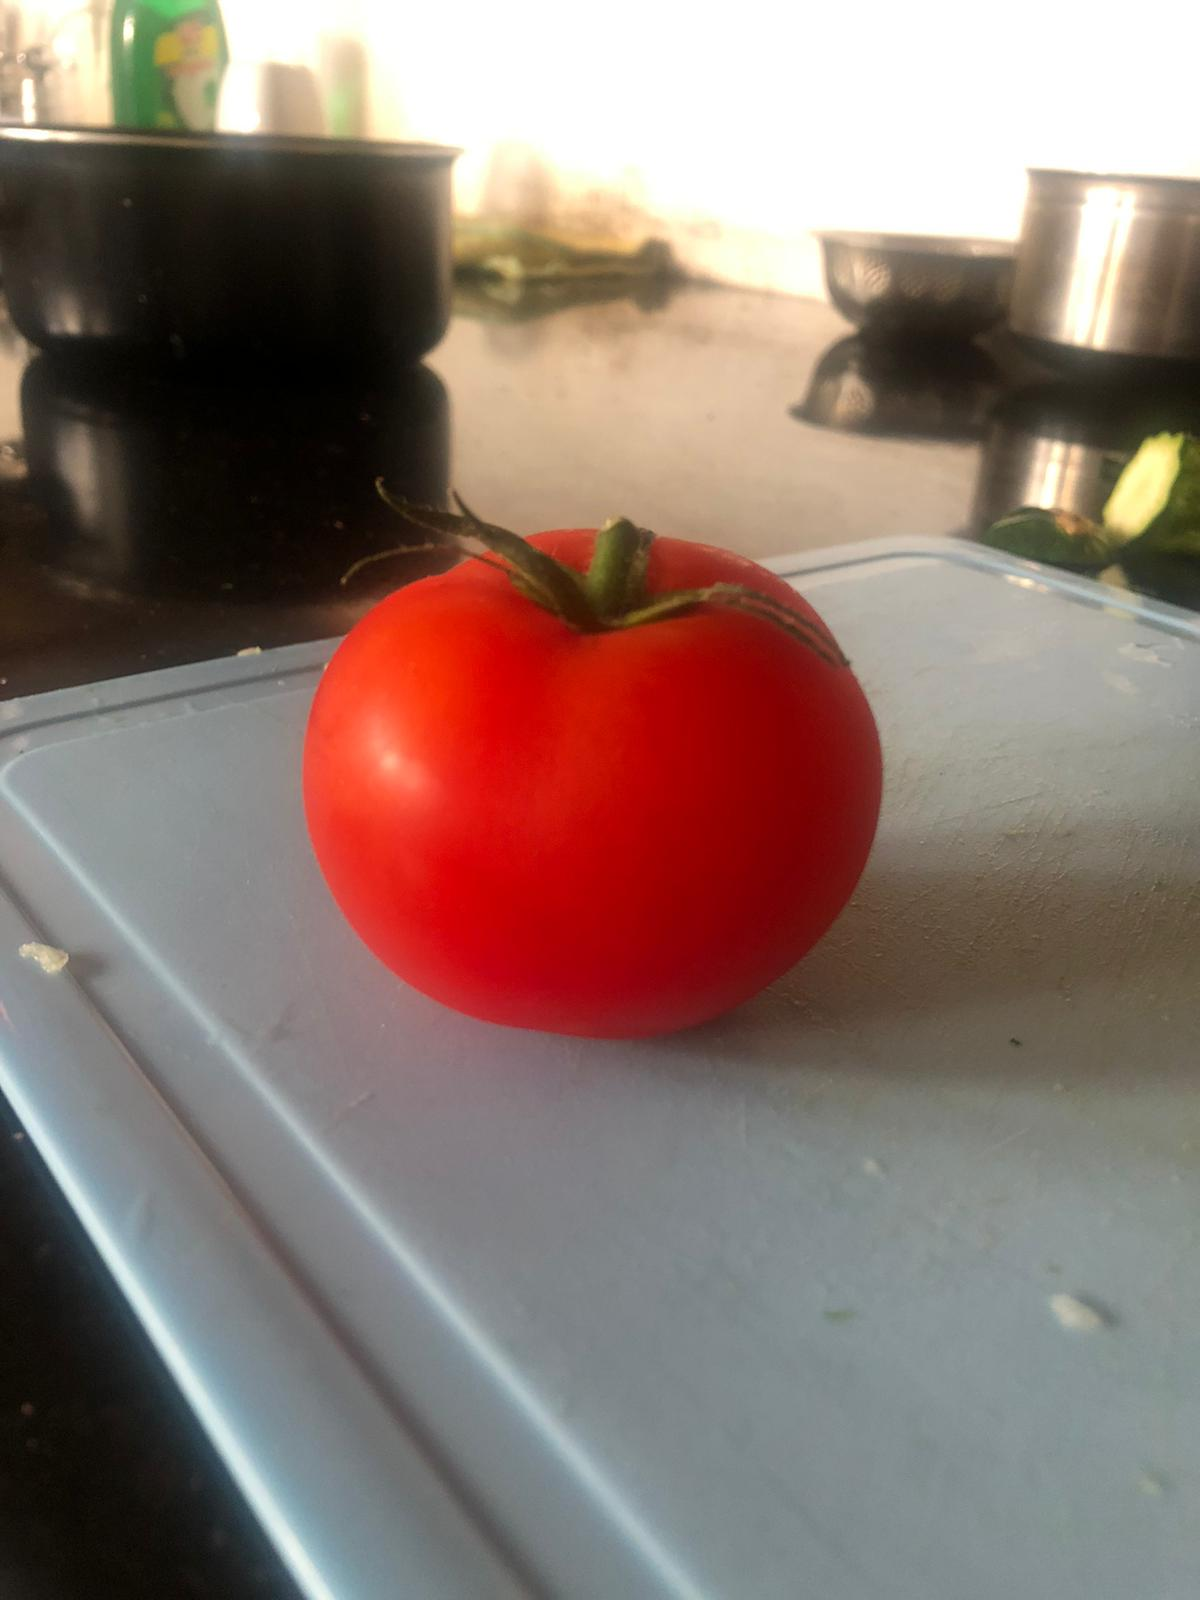Tomato: (297, 490, 910, 1041)
